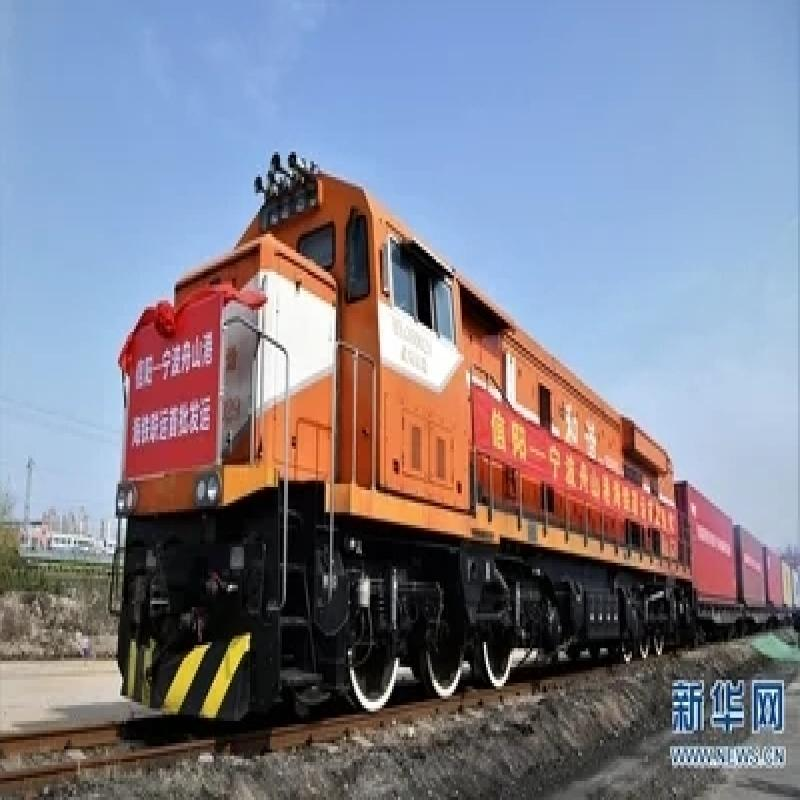train: (113, 144, 679, 729)
